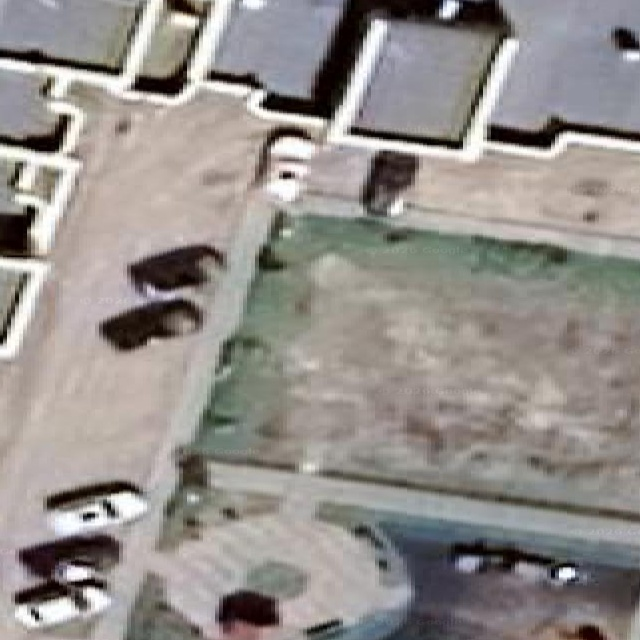car: (449, 540, 584, 584), (44, 482, 147, 535), (99, 300, 203, 350), (18, 533, 120, 580), (13, 579, 110, 627), (129, 243, 223, 292), (264, 131, 315, 201), (362, 151, 415, 216), (216, 590, 279, 633), (507, 553, 586, 586), (216, 333, 267, 380), (352, 524, 392, 571), (264, 160, 307, 201), (0, 207, 35, 256), (449, 540, 493, 572), (267, 131, 315, 160), (435, 0, 493, 23), (176, 447, 207, 487), (51, 560, 96, 583), (612, 27, 639, 60), (303, 617, 343, 639), (256, 244, 286, 270), (268, 208, 293, 239), (353, 523, 384, 548), (547, 564, 583, 584), (452, 553, 484, 572), (571, 624, 607, 639), (437, 0, 460, 20), (384, 227, 412, 243), (167, 0, 200, 13), (241, 0, 264, 9), (221, 507, 238, 519), (377, 557, 387, 569), (283, 264, 284, 267), (275, 256, 276, 259), (258, 259, 259, 260)
